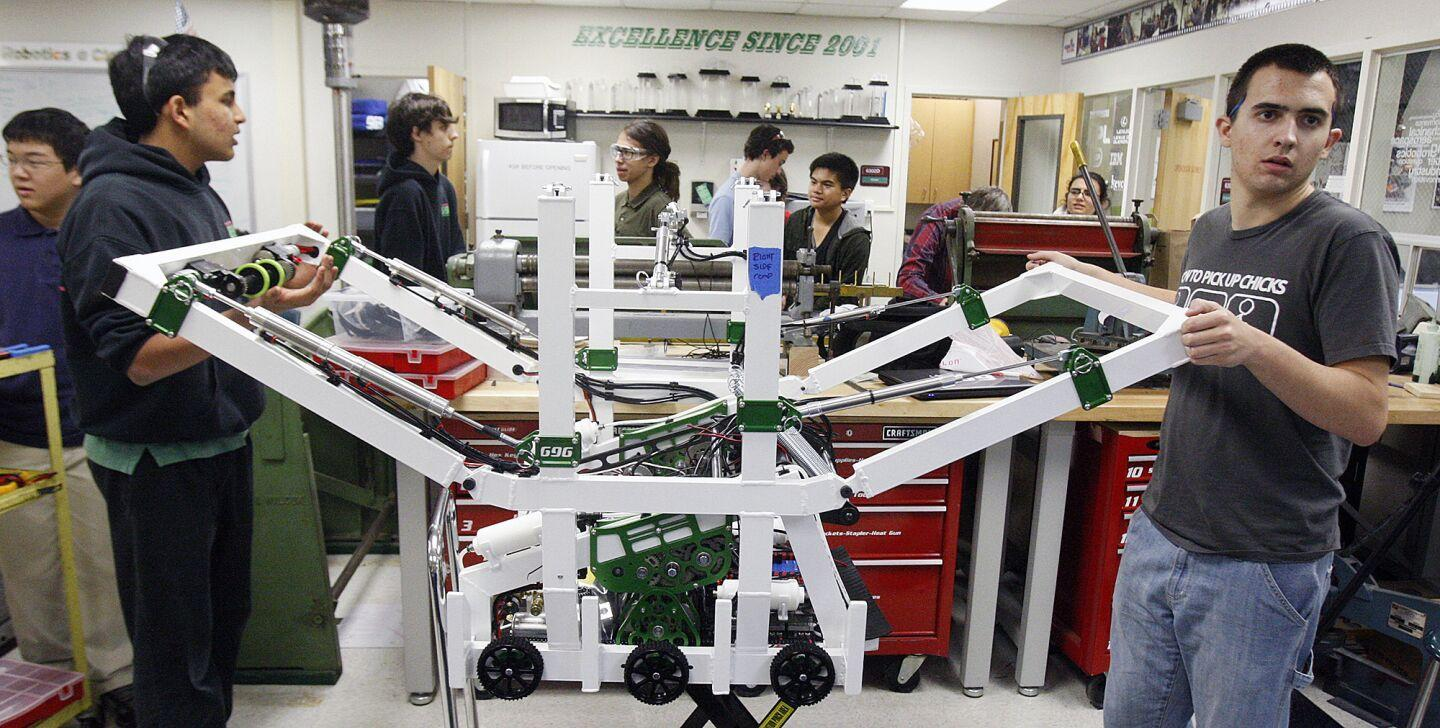robot: (96, 169, 1206, 711)
